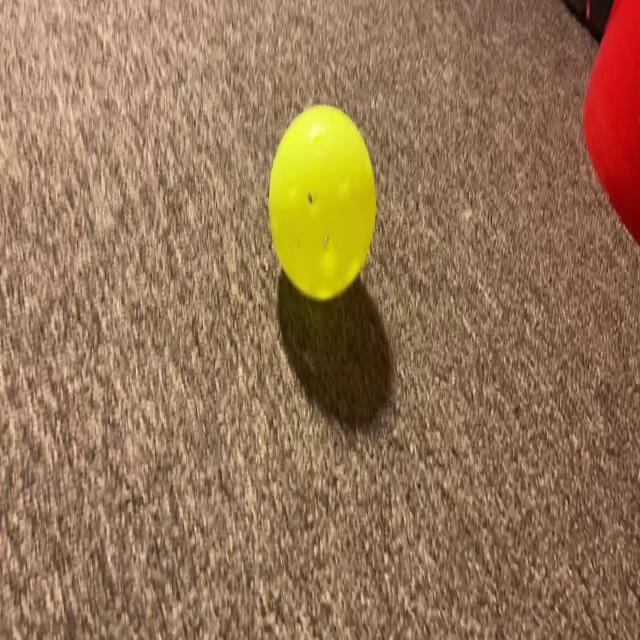ball: (248, 98, 391, 317)
